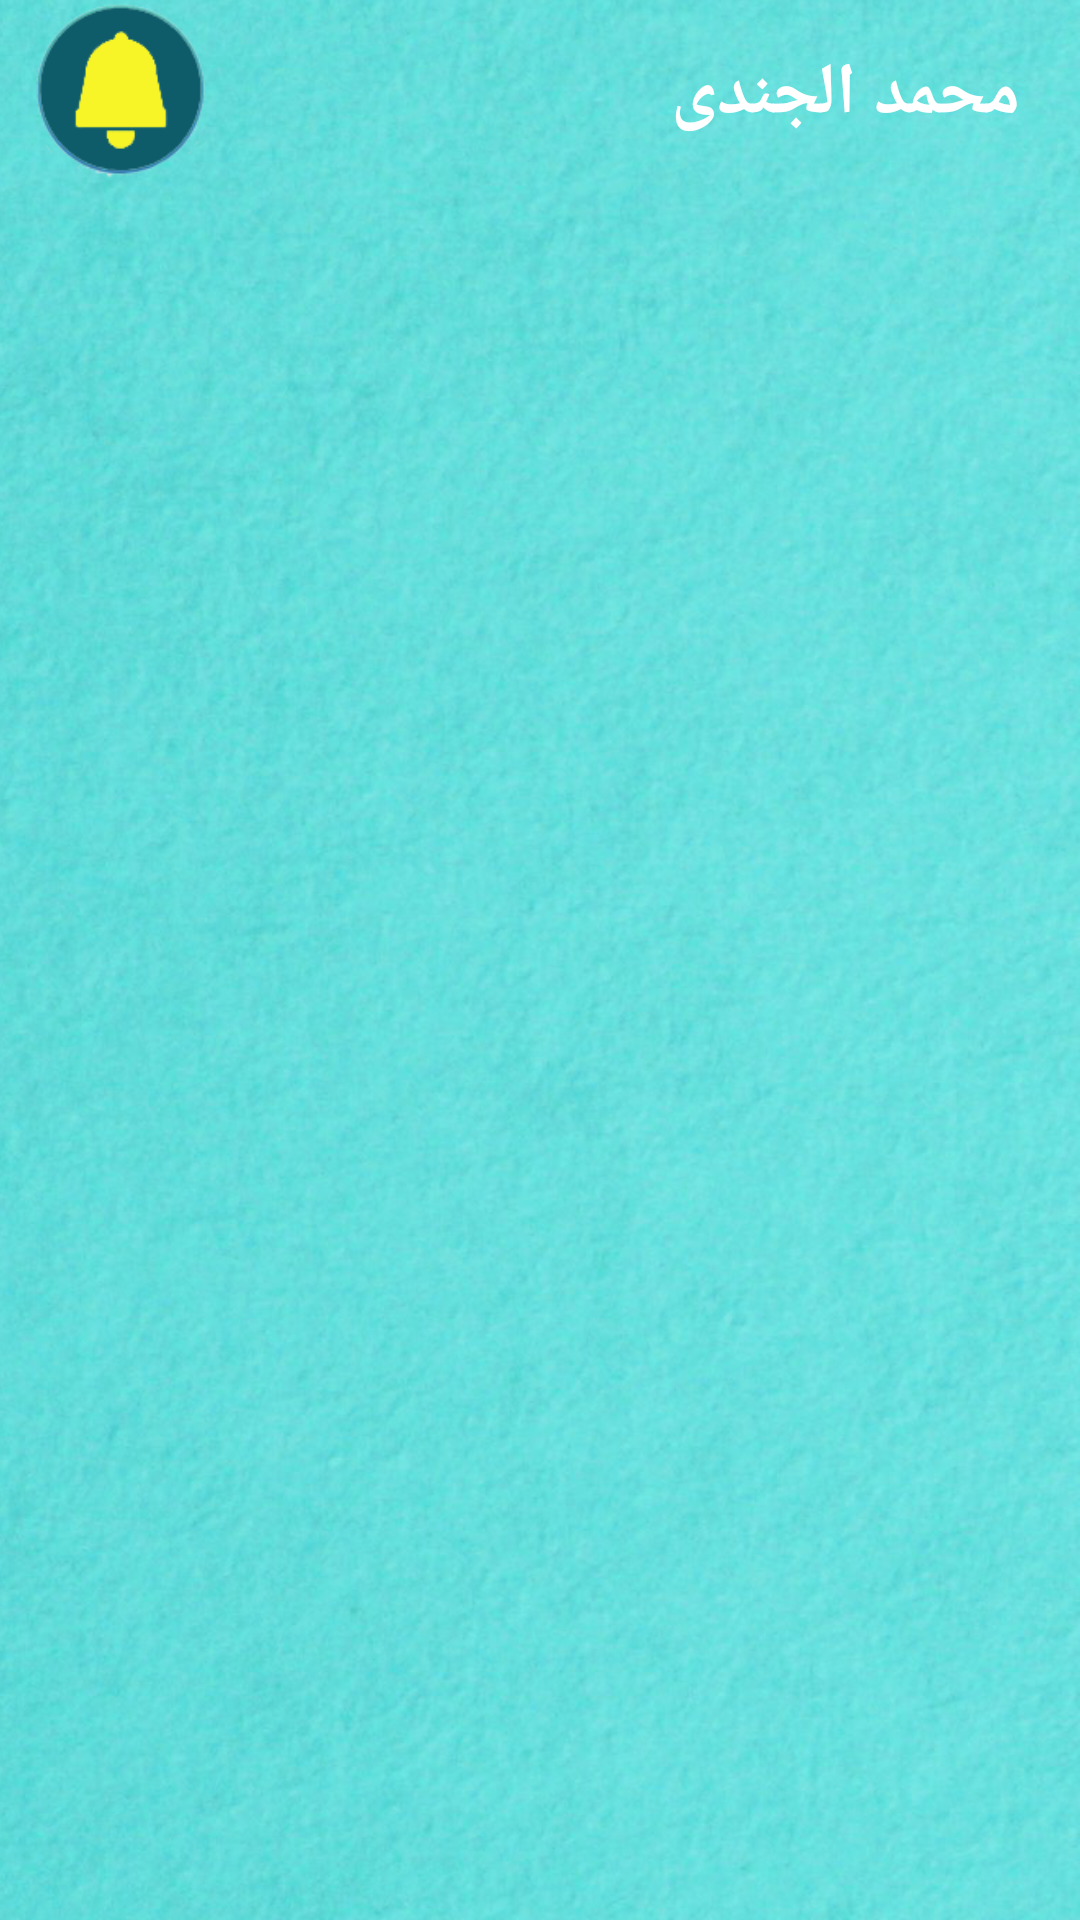

Icon click points for this 1080 x 1920 phone screenshot, format point (x, y):
notivication: point (120, 91)
